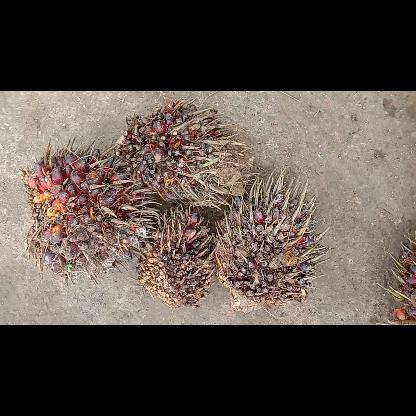TBS abnormal: (216, 170, 324, 312), (111, 100, 241, 208), (135, 209, 215, 308)
TBS masak: (20, 146, 156, 270)
